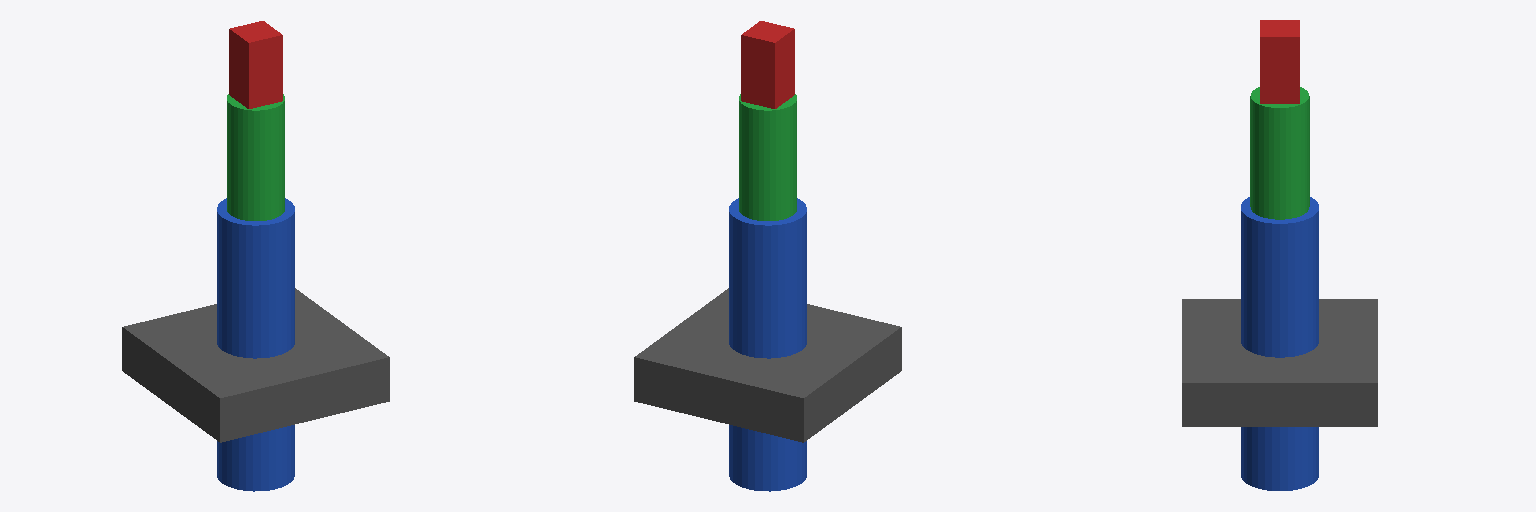
URDF robot description (simple_arm):
<?xml version="1.0"?>
<robot name="simple_arm">

  <link name="base_link">
    <visual>
      <geometry>
        <box size="0.2 0.2 0.05"/>
      </geometry>
      <material name="gray">
        <color rgba="0.4 0.4 0.4 1.0"/>
      </material>
    </visual>
  </link>

  <joint name="joint_1" type="revolute">
    <parent link="base_link"/>
    <child link="link_1"/>
    <origin xyz="0 0 0.025" rpy="0 0 0"/>
    <axis xyz="0 0 1"/>
    <limit lower="-3.14" upper="3.14" effort="100" velocity="1.0"/>
  </joint>

  <link name="link_1">
    <visual>
      <geometry>
        <cylinder radius="0.04" length="0.3"/>
      </geometry>
      <material name="blue">
        <color rgba="0.2 0.4 0.8 1.0"/>
      </material>
    </visual>
  </link>

  <joint name="joint_2" type="revolute">
    <parent link="link_1"/>
    <child link="link_2"/>
    <origin xyz="0 0 0.15" rpy="0 0 0"/>
    <axis xyz="0 1 0"/>
    <limit lower="-2.0" upper="2.0" effort="50" velocity="1.0"/>
  </joint>

  <link name="link_2">
    <visual>
      <geometry>
        <cylinder radius="0.03" length="0.25"/>
      </geometry>
      <material name="green">
        <color rgba="0.2 0.7 0.3 1.0"/>
      </material>
    </visual>
  </link>

  <joint name="joint_3" type="revolute">
    <parent link="link_2"/>
    <child link="link_3"/>
    <origin xyz="0 0 0.125" rpy="0 0 0"/>
    <axis xyz="0 1 0"/>
    <limit lower="-2.0" upper="2.0" effort="50" velocity="1.0"/>
  </joint>

  <link name="link_3">
    <visual>
      <geometry>
        <box size="0.04 0.04 0.15"/>
      </geometry>
      <material name="red">
        <color rgba="0.8 0.2 0.2 1.0"/>
      </material>
    </visual>
  </link>

</robot>

--- Render facts (derived) ---
3 views of the same robot in one strip: view 1: azimuth 30°, elevation 25°; view 2: azimuth 150°, elevation 25°; view 3: azimuth 270°, elevation 25° (orthographic).
Model simple_arm with 4 links and 3 joints (3 revolute), rooted at base_link, posed every joint at zero.
Visible links, largest first — view 1: base_link, link_1, link_2, link_3; view 2: base_link, link_1, link_2, link_3; view 3: base_link, link_1, link_2, link_3.
Link boxes in pixels (left/top/right/bottom): base_link: left=122, top=288, right=389, bottom=442; link_1: left=217, top=198, right=294, bottom=491; link_2: left=227, top=94, right=284, bottom=220; link_3: left=229, top=21, right=282, bottom=108; base_link: left=634, top=288, right=901, bottom=442; link_1: left=729, top=198, right=806, bottom=491; link_2: left=739, top=94, right=796, bottom=220; link_3: left=741, top=21, right=794, bottom=108; base_link: left=1182, top=299, right=1377, bottom=426; link_1: left=1241, top=197, right=1318, bottom=490; link_2: left=1250, top=87, right=1309, bottom=219; link_3: left=1260, top=20, right=1299, bottom=103.
Bounding box of the posed robot: 0.2 × 0.2 × 0.5 m (x, y, z).
Geometry: primitives only (box / cylinder / sphere), no mesh files.
